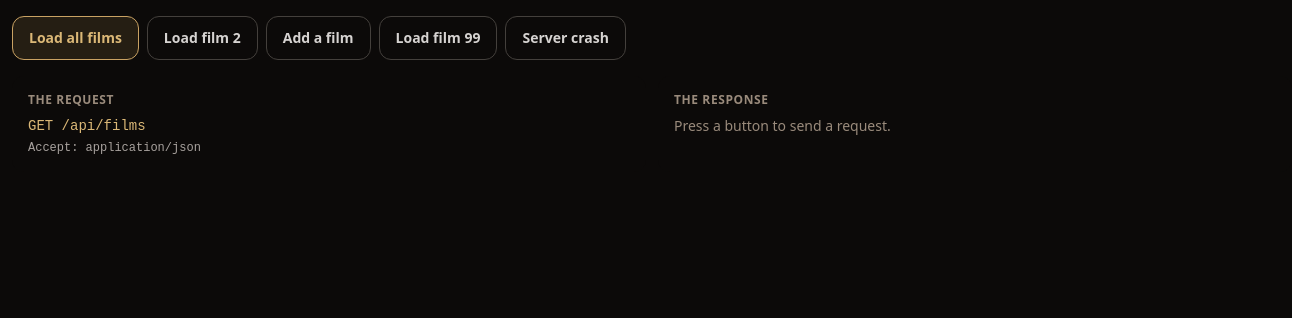
Scenario: HttpLabDemoComponent › does the same for a 500
What coordinates should you click on to do the following:
click the button "Server crash"
I would click on:
 (566, 38)
Its box is [506,16,626,60].
Wait 700 ms
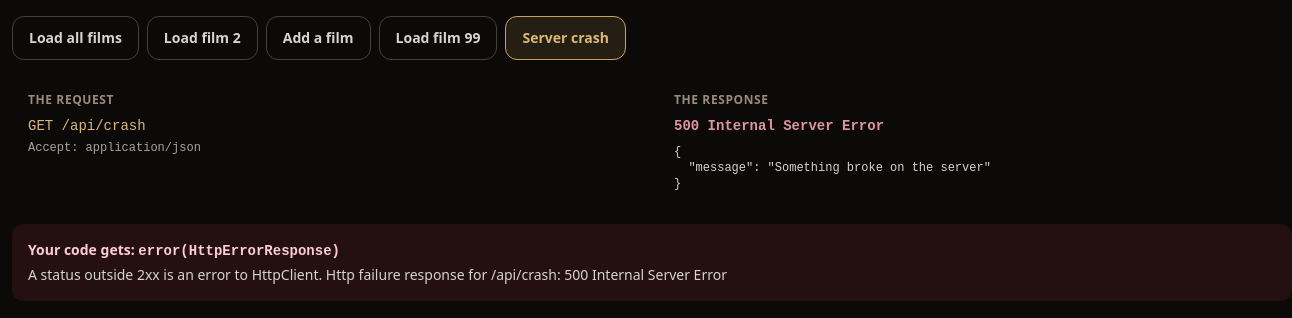
expect the text "error(HttpErrorResponse)" is shown: met, box [138,243,340,259]
expect the text "500 Internal Server Error" is shown: met, box [674,118,884,134]
